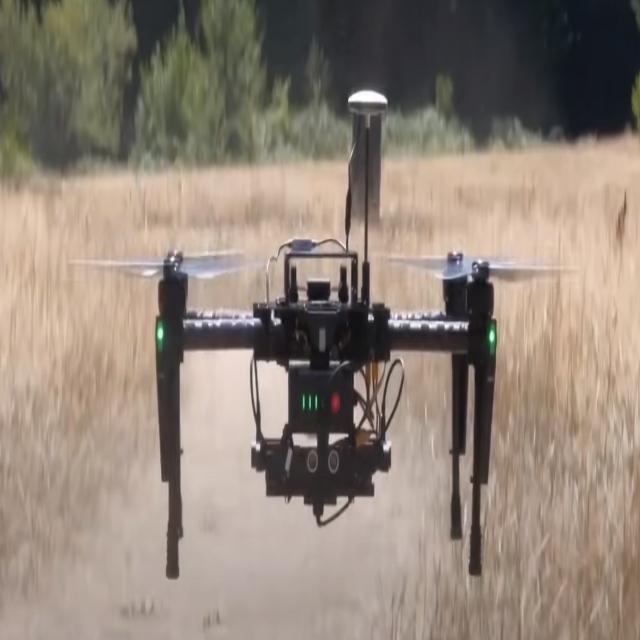drone: (56, 81, 595, 592)
